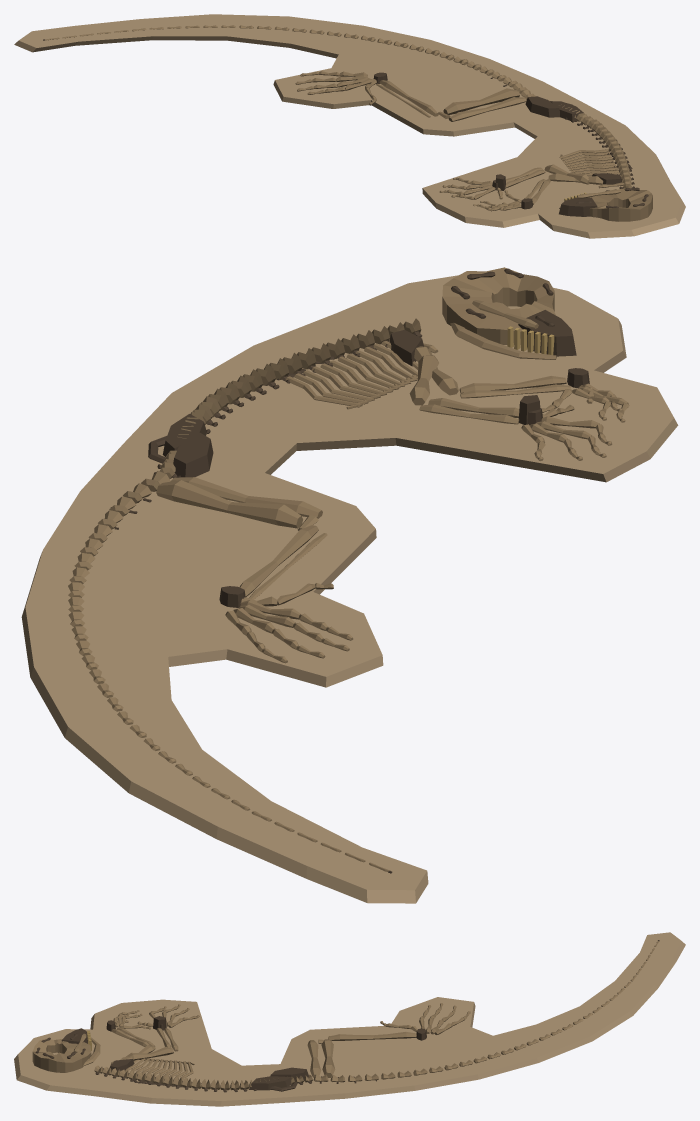
The picture shows the model from 3 angles, top to bottom: view 1: azimuth 30°, elevation 25°; view 2: azimuth 150°, elevation 25°; view 3: azimuth 270°, elevation 25°; orthographic projection. The views are drawn at different scales.
Visible parts, largest first — view 1: matrix_support, tail_31_preserved_units, cranium_with_orbit, thoracic_visible_ribs, pedal_digits_near, axial_preserved_blocks, pelvic_fragments, femur_near, manual_digits_near, maxillary_region, femur_far, tibia_near (+1 smaller); view 2: matrix_support, cranium_with_orbit, tail_31_preserved_units, thoracic_visible_ribs, axial_preserved_blocks, pedal_digits_near, femur_near, pelvic_fragments, manual_digits_near, femur_far, maxillary_region, manual_digits_far (+3 smaller); view 3: matrix_support, cranium_with_orbit, tail_31_preserved_units, axial_preserved_blocks, pelvic_fragments, thoracic_visible_ribs, pedal_digits_near, tibia_near, manual_digits_near, femur_near, manual_digits_far, femur_far (+2 smaller).
Boxes of the visible parts, x1,y1,x2,y2 form: matrix_support: (14, 14, 685, 238); tail_31_preserved_units: (45, 25, 534, 99); cranium_with_orbit: (588, 187, 652, 221); thoracic_visible_ribs: (559, 149, 621, 177); pedal_digits_near: (295, 71, 376, 105); axial_preserved_blocks: (533, 95, 632, 188); pelvic_fragments: (525, 96, 583, 121); femur_near: (443, 88, 519, 114); manual_digits_near: (439, 177, 502, 199); maxillary_region: (559, 197, 597, 216); femur_far: (448, 97, 526, 121); tibia_near: (379, 80, 438, 116); matrix_support: (21, 275, 678, 903); cranium_with_orbit: (442, 267, 555, 344); tail_31_preserved_units: (68, 471, 388, 871); thoracic_visible_ribs: (285, 341, 418, 409); axial_preserved_blocks: (159, 318, 421, 478); pedal_digits_near: (225, 583, 353, 663); femur_near: (156, 480, 302, 528); pelvic_fragments: (148, 414, 213, 477); manual_digits_near: (521, 405, 612, 460); femur_far: (171, 477, 322, 518); maxillary_region: (518, 310, 576, 356); manual_digits_far: (541, 383, 629, 422); matrix_support: (14, 932, 685, 1106); cranium_with_orbit: (32, 1038, 91, 1072); tail_31_preserved_units: (313, 941, 658, 1082); axial_preserved_blocks: (94, 1065, 312, 1090); pelvic_fragments: (249, 1067, 308, 1091); thoracic_visible_ribs: (120, 1058, 194, 1081); pedal_digits_near: (380, 1003, 470, 1034); tibia_near: (328, 1032, 416, 1040); manual_digits_near: (137, 1004, 199, 1027); femur_near: (321, 1039, 335, 1077); manual_digits_far: (113, 1010, 150, 1029); femur_far: (307, 1040, 321, 1077).
Bounding box in the file's own units: 0.2649 × 0.0129 × 0.4403.
